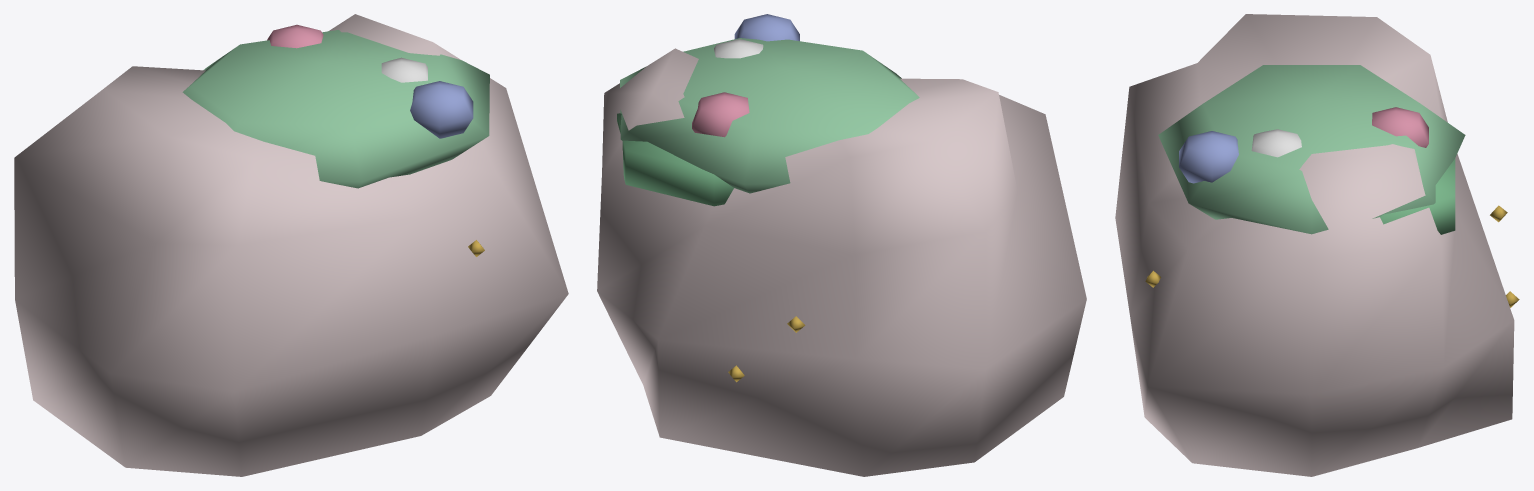
File: rock_mossy_b.gltf
The picture shows the model from 3 angles, left to right: view 1: azimuth 30°, elevation 25°; view 2: azimuth 150°, elevation 25°; view 3: azimuth 270°, elevation 25°; orthographic projection. The views are drawn at different scales.
Visible parts, largest first — view 1: rock_mossy_b; view 2: rock_mossy_b; view 3: rock_mossy_b.
Boxes of the visible parts, left/top/right/bottom form: rock_mossy_b: left=14, top=14, right=568, bottom=476; rock_mossy_b: left=597, top=14, right=1086, bottom=476; rock_mossy_b: left=1115, top=14, right=1519, bottom=476.
Size of what is drawn, in the model's own units: 0.8486 by 0.5733 by 0.677.
